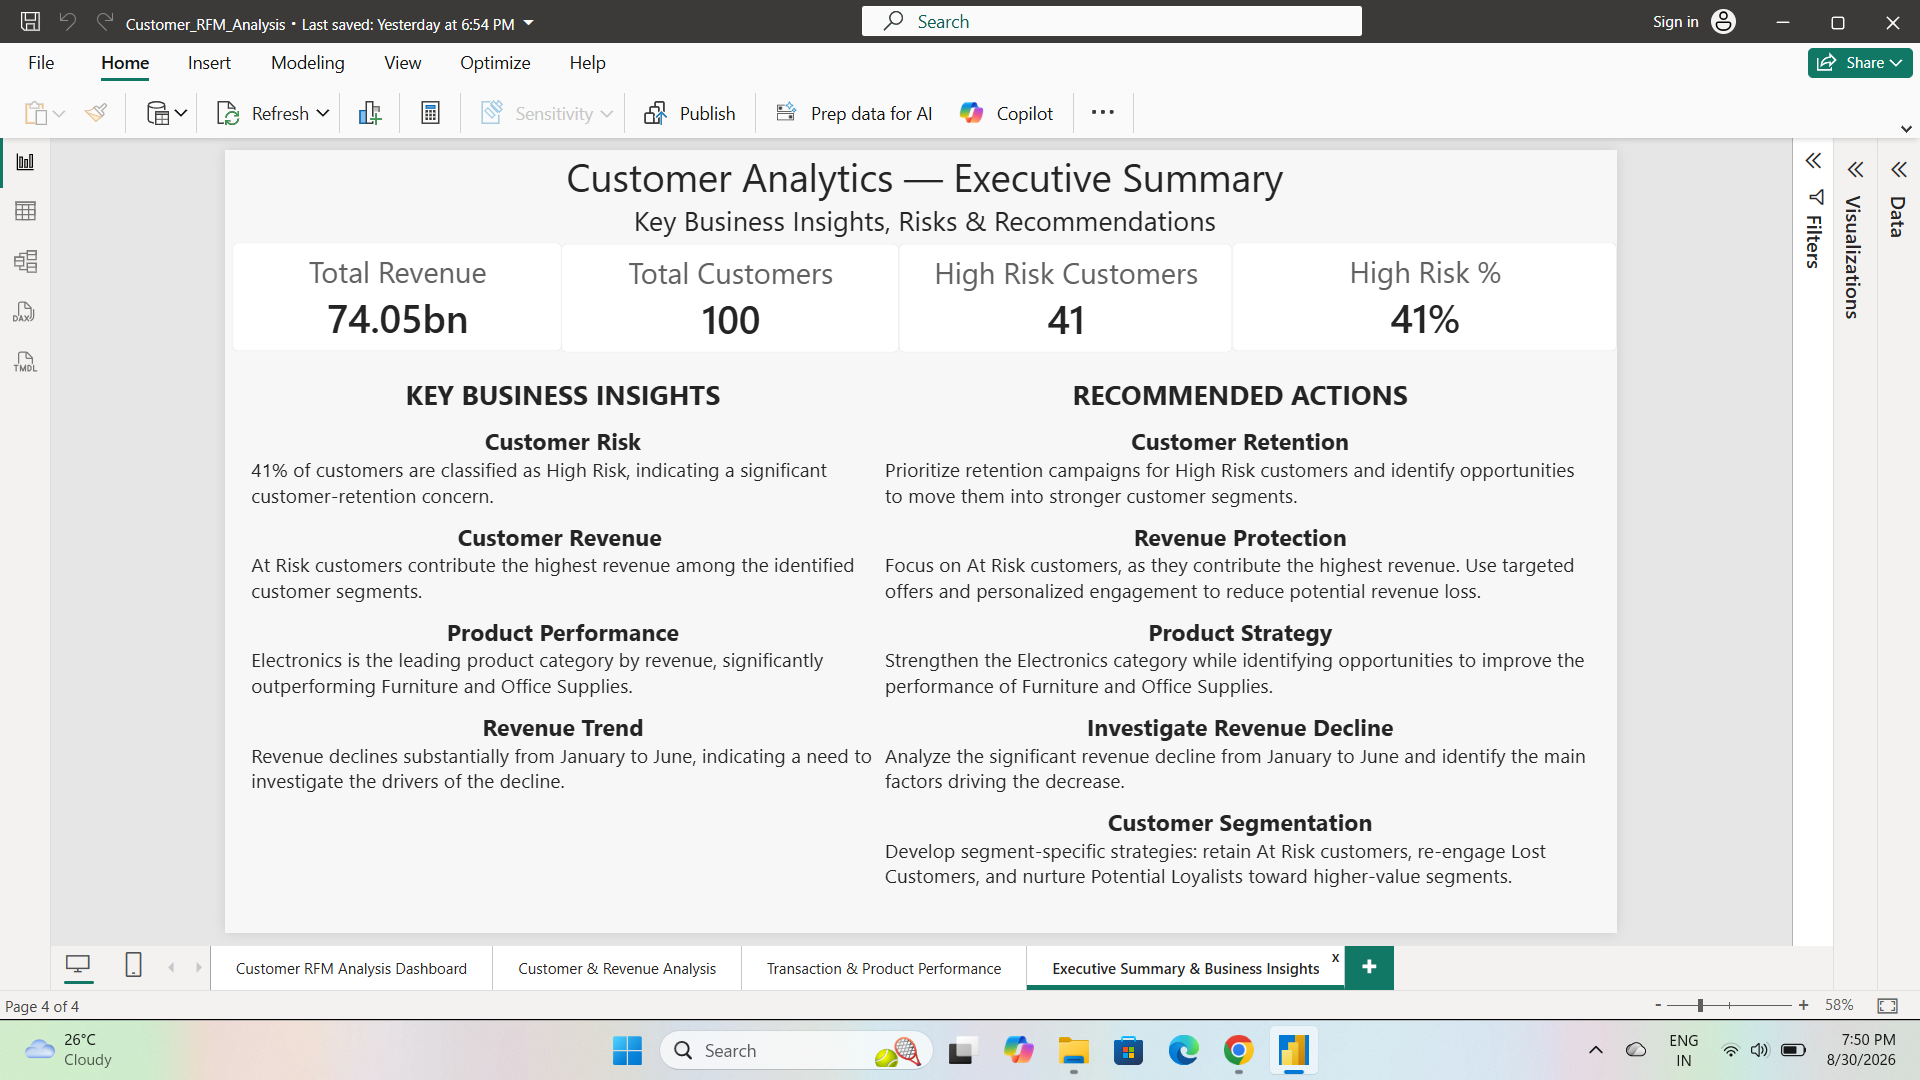

Layout of this report page (visuals, bound fields, positions):
{"tool":"powerbi","page":{"name":"Executive Summary & Business Insights","canvas":[1920,1080],"ordinal":3},"visuals":[{"type":"textbox","box":[10,0,1910,128],"z":0},{"type":"cardVisual","fields":{"Data":["customer_rfm_analysis customer_segments.Total Revenue"]},"box":[10,128,454,150],"z":1000},{"type":"cardVisual","fields":{"Data":["customer_rfm_analysis customer_segments.Total Customers"]},"box":[464,130,466,150],"z":2000},{"type":"cardVisual","fields":{"Data":["customer_rfm_analysis customer_segments.High Risk Customers"]},"box":[930,130,460,150],"z":3000},{"type":"cardVisual","fields":{"Data":["customer_rfm_analysis customer_segments.High Risk %"]},"box":[1390,128,530,150],"z":4000},{"type":"textbox","box":[36,312,860,612],"z":5000},{"type":"textbox","box":[910,312,980,768],"z":6000}]}

Visuals, with their boxes on the page's 1920x1080 design canvas (x1, y1, x2, y2). These are canvas units, not pixel positions in the 1920x1080 screenshot, which may show the page scaled, cropped or inside an application window:
textbox: 10, 0, 1920, 128
cardVisual - customer_rfm_analysis customer_segments.Total Revenue: 10, 128, 464, 278
cardVisual - customer_rfm_analysis customer_segments.Total Customers: 464, 130, 930, 280
cardVisual - customer_rfm_analysis customer_segments.High Risk Customers: 930, 130, 1390, 280
cardVisual - customer_rfm_analysis customer_segments.High Risk %: 1390, 128, 1920, 278
textbox: 36, 312, 896, 924
textbox: 910, 312, 1890, 1080
